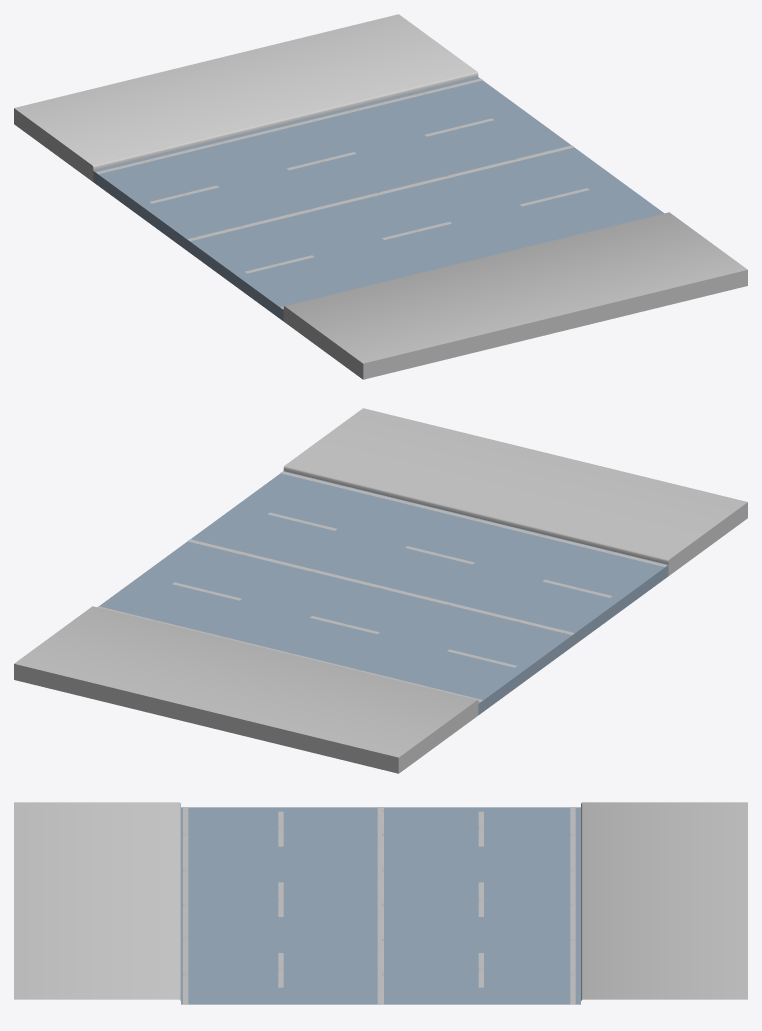
File: Road_010.fbx
The picture shows the model from 3 angles, top to bottom: view 1: azimuth 30°, elevation 25°; view 2: azimuth 150°, elevation 25°; view 3: azimuth 270°, elevation 25°; orthographic projection. The views are drawn at different scales.
Parts seen in each view (by area): view 1: Road_010; view 2: Road_010; view 3: Road_010.
Boxes of the visible parts, <box> form: Road_010: <box>14,14,747,379</box>; Road_010: <box>14,408,747,773</box>; Road_010: <box>14,802,747,1004</box>.
Size of the model in its own units: 1401 by 56.17 by 2202.
